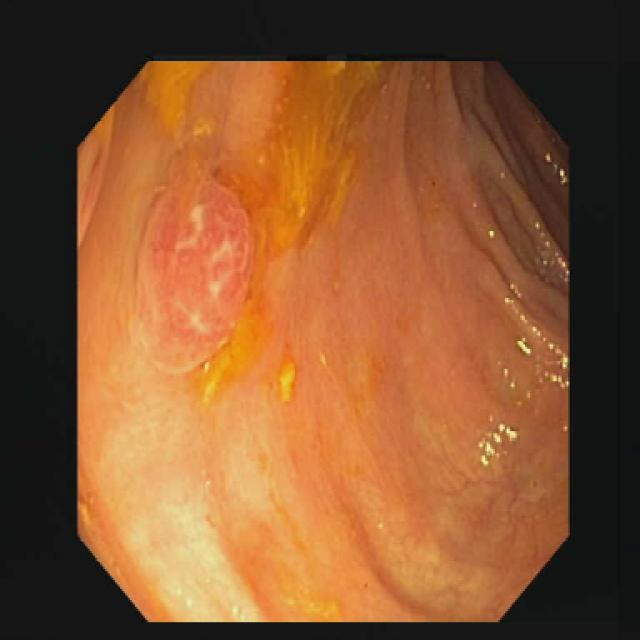tumor: (138, 176, 253, 371)
